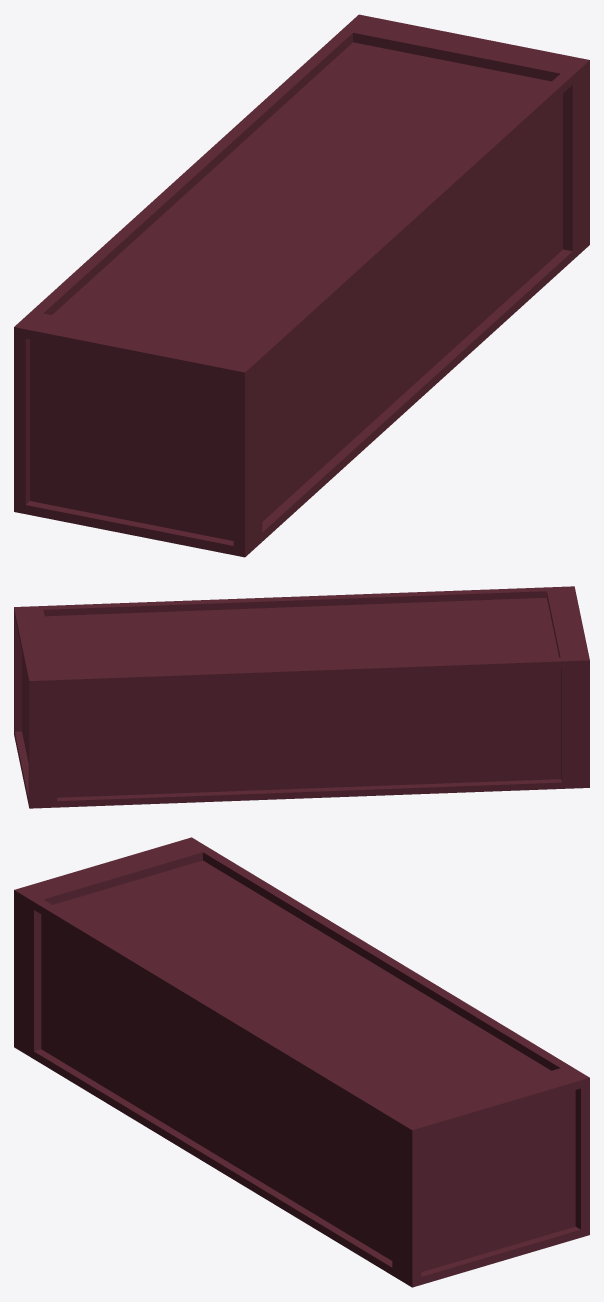
File: skrzynka duża.fbx
3 views of the same model, one above another, from view 1: azimuth 30°, elevation 25°; view 2: azimuth 150°, elevation 25°; view 3: azimuth 270°, elevation 25° (orthographic). The views are drawn at different scales.
Parts seen in each view (by area): view 1: skrzynka duża prostokąt bez tekstury; view 2: skrzynka duża prostokąt bez tekstury; view 3: skrzynka duża prostokąt bez tekstury.
Part boxes in pixels (bbox=[...]): skrzynka duża prostokąt bez tekstury: bbox=[14, 14, 589, 557]; skrzynka duża prostokąt bez tekstury: bbox=[14, 586, 589, 808]; skrzynka duża prostokąt bez tekstury: bbox=[14, 837, 589, 1287].
Bounding box in the file's own units: 799 × 200 × 664.
